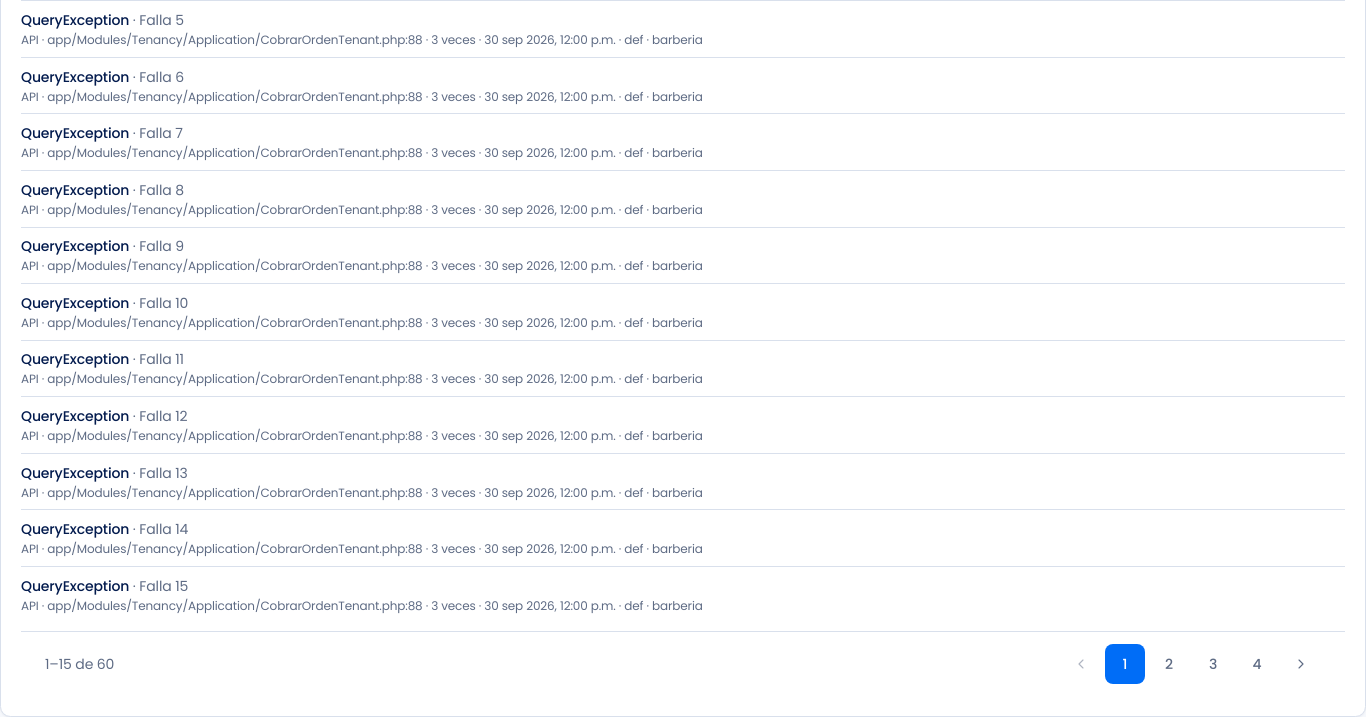
Test: errores de la plataforma › si bajó el total mientras traía lotes, vuelve a pedir desde el lote 1 y acota la página
This screenshot has width=1366, height=717.
(page scrolled)
Click the button named "Página 4" at x=1257, y=664, box [1237,644,1277,684]
(page scrolled)
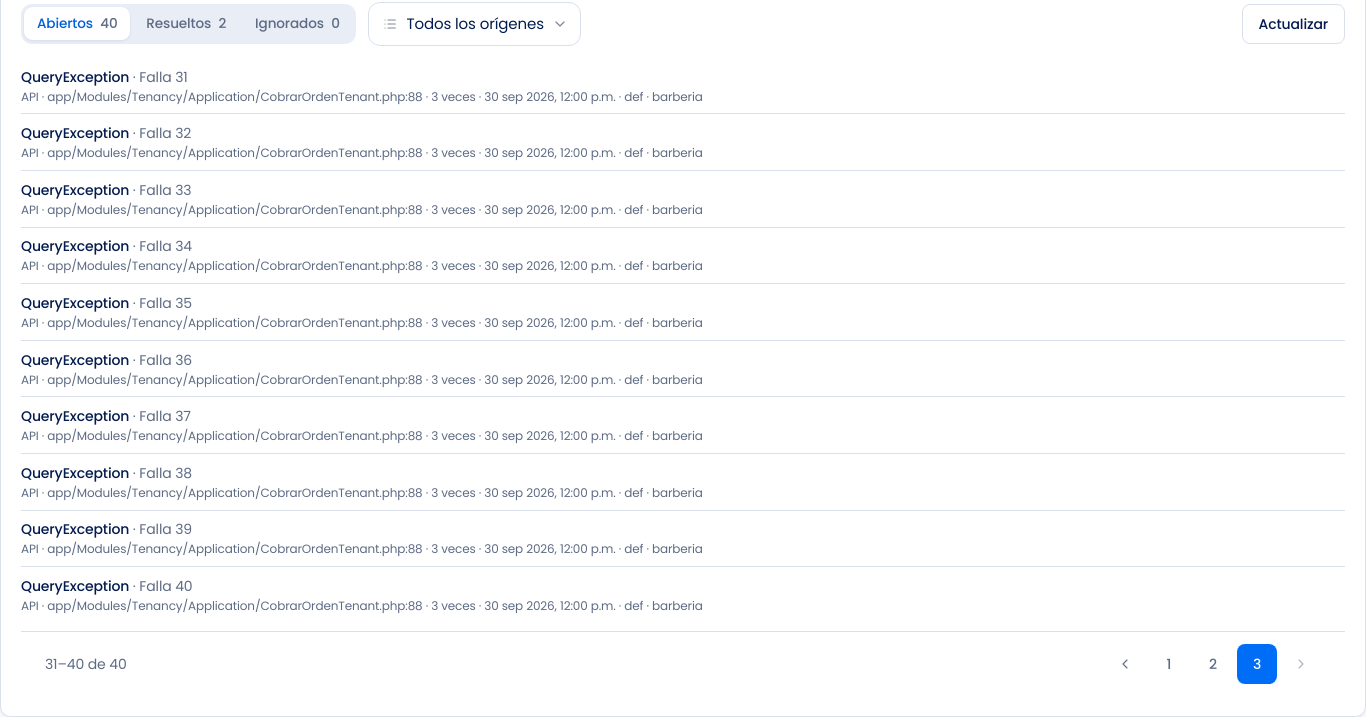
expect the text "Falla 31" is shown: met, box [21,58,1345,113]
expect the text "Falla 40" is shown: met, box [21,567,1345,623]
expect the navigation bar shows "31–40 de 40": met, box [45,654,127,674]
